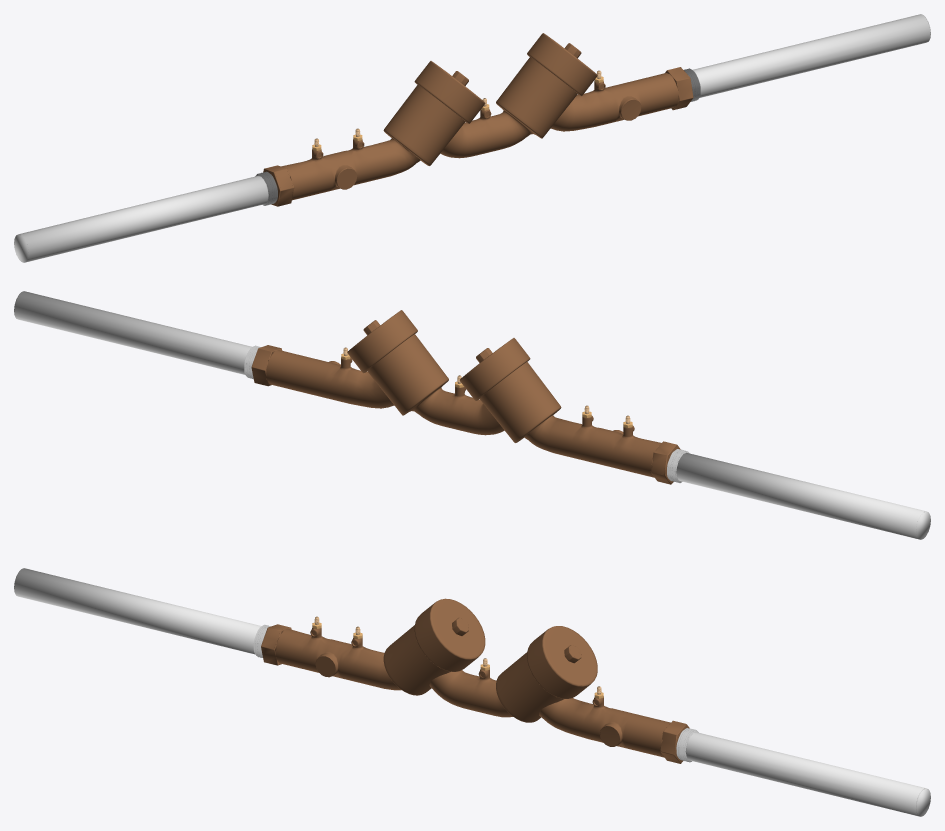
Rendered from BodyAndNozzles.fbx.
3 views of the same model, one above another, from view 1: azimuth 30°, elevation 25°; view 2: azimuth 150°, elevation 25°; view 3: azimuth 330°, elevation 25° (orthographic).
Parts seen in each view (by area): view 1: Body_Baked, TestCockNozzles_Baked; view 2: Body_Baked; view 3: Body_Baked, TestCockNozzles_Baked.
Part boxes in pixels (box(x1,y1,x2,y2)): Body_Baked: box(14, 14, 930, 262); TestCockNozzles_Baked: box(312, 70, 641, 150); Body_Baked: box(14, 291, 930, 539); Body_Baked: box(14, 568, 930, 816); TestCockNozzles_Baked: box(312, 616, 619, 746).
Bounding box in the file's own units: 107 × 11.37 × 7.18.
1 material, 1 textured.
